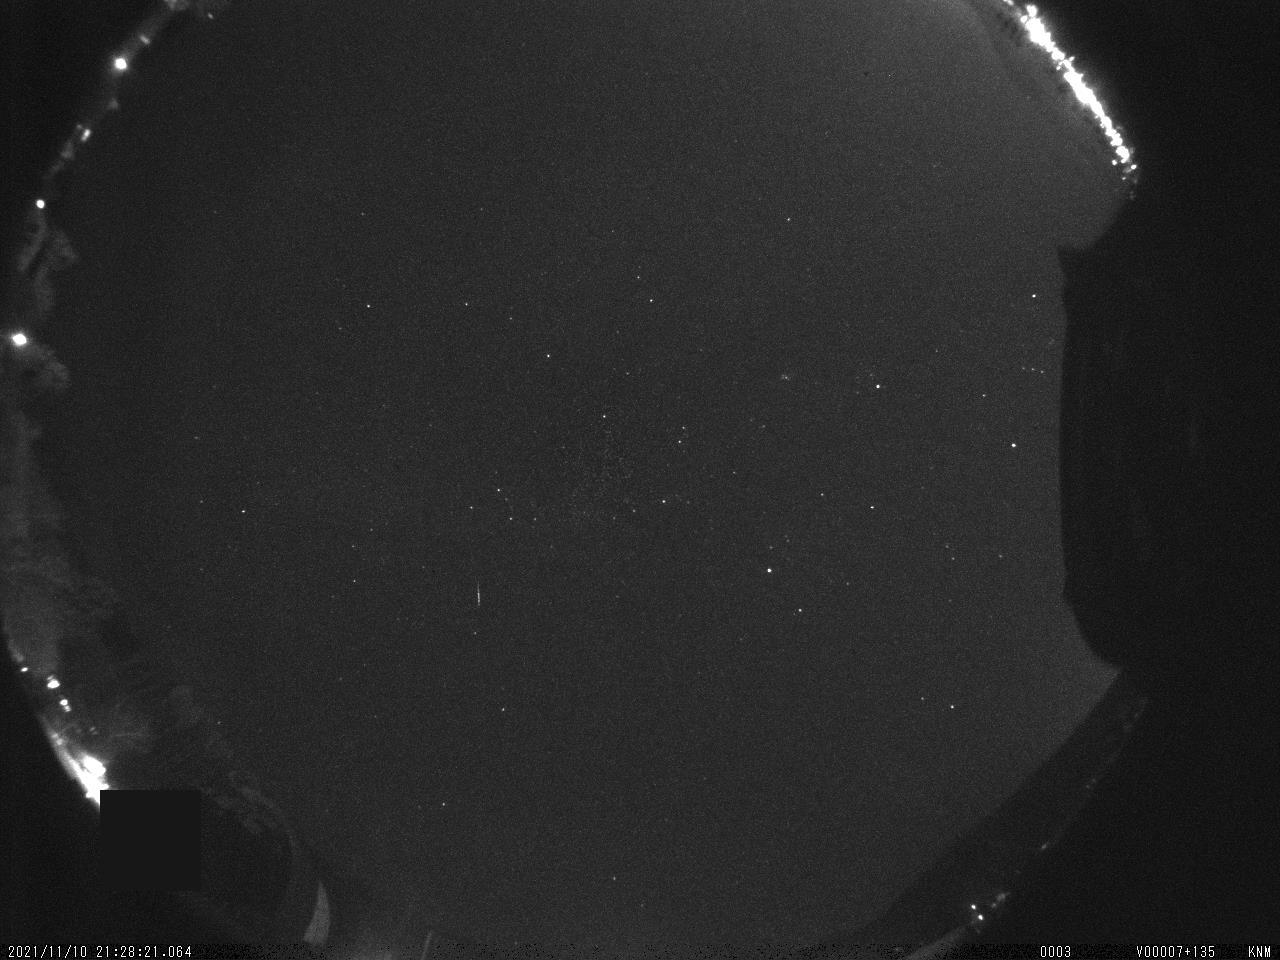meteor: (452, 569, 506, 626)
